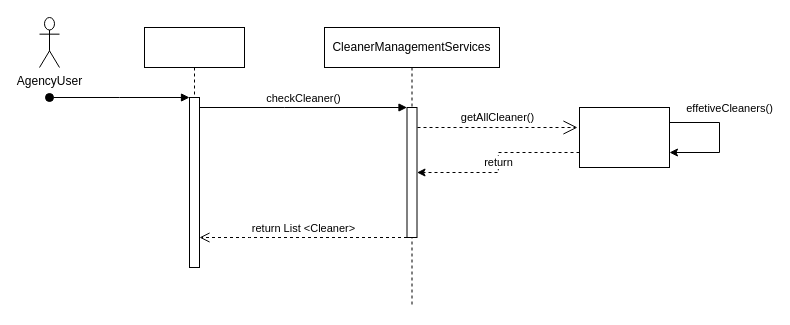
The diagram is 790 pixels wide and 325 high, and some of its shapes have lost their labels. The box of each missing label's shape, as (x1, y1, x2, y2) in pixels:
Interface agence: (144, 26, 244, 268)
List <Cleaner>: (578, 106, 670, 168)
